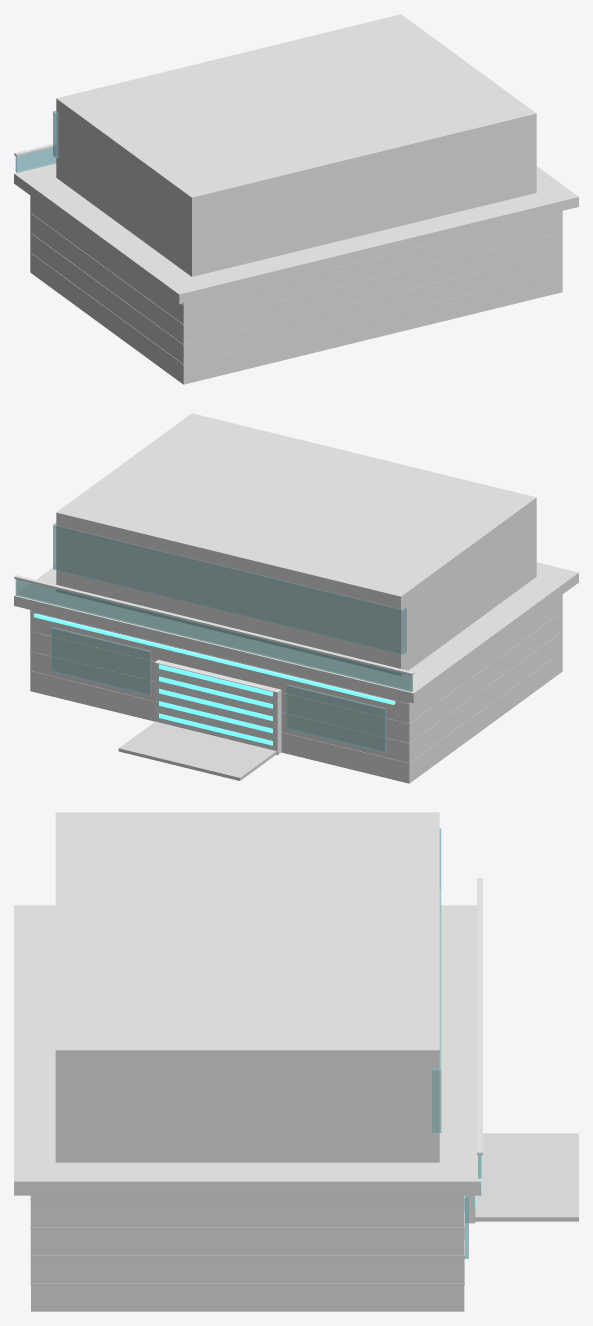
The model's file is villa-west.glb.
3 views of the same model, one above another, from view 1: azimuth 30°, elevation 25°; view 2: azimuth 150°, elevation 25°; view 3: azimuth 270°, elevation 25° (orthographic). The views are drawn at different scales.
Visible parts, largest first — view 1: villa-west; view 2: villa-west; view 3: villa-west.
Boxes of the visible parts, bbox=[...] form: villa-west: bbox=[14, 14, 578, 384]; villa-west: bbox=[14, 413, 578, 783]; villa-west: bbox=[14, 812, 578, 1311].
Size of the model in its own units: 21.1 by 8.9 by 18.25.
